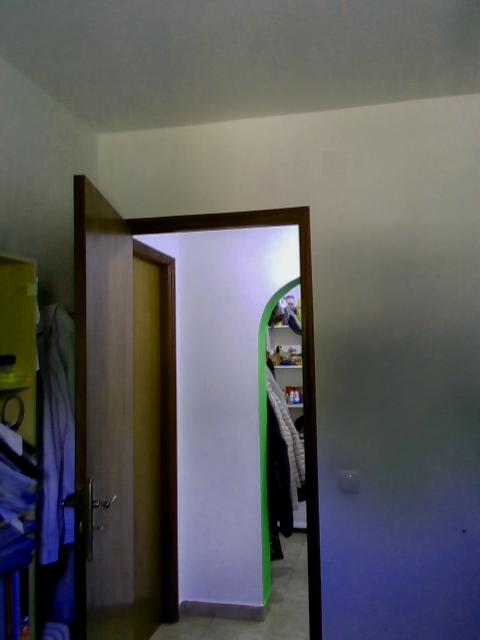open_door: (112, 203, 324, 638)
